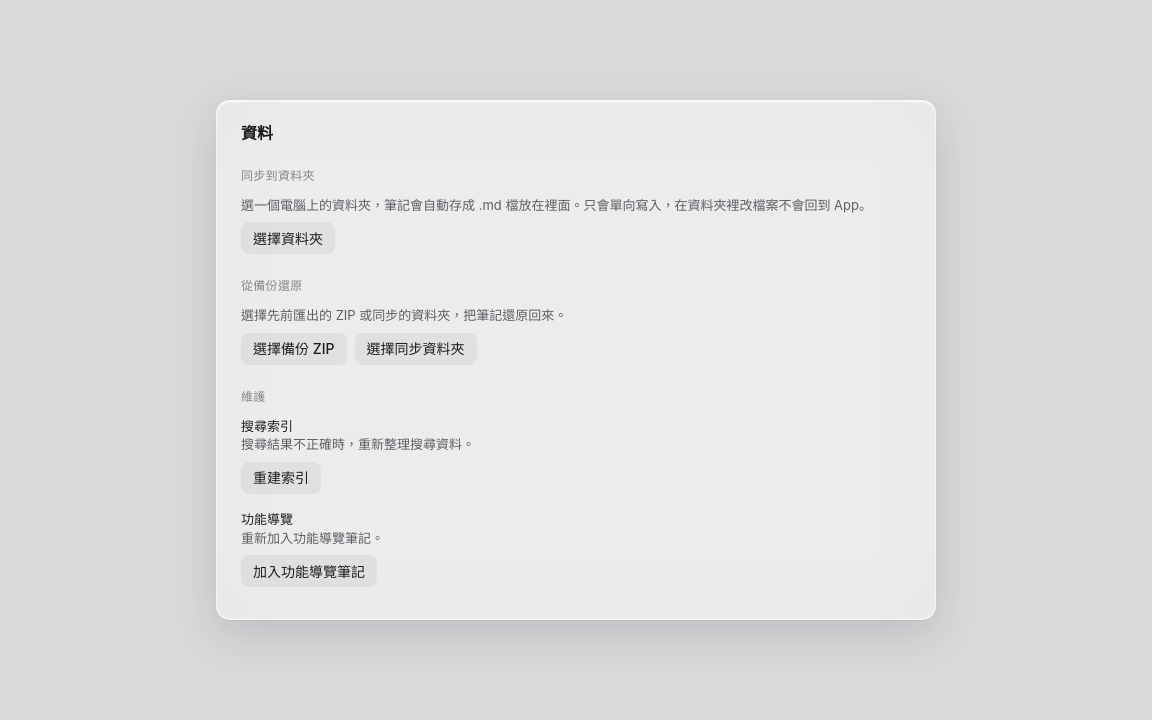
Scenario: SettingsDialog › data › skips unreadable notes and says how many were skipped (M9)
(page scrolled)
Click the button "重建索引". click: (281, 478)
box: [241, 462, 321, 494]
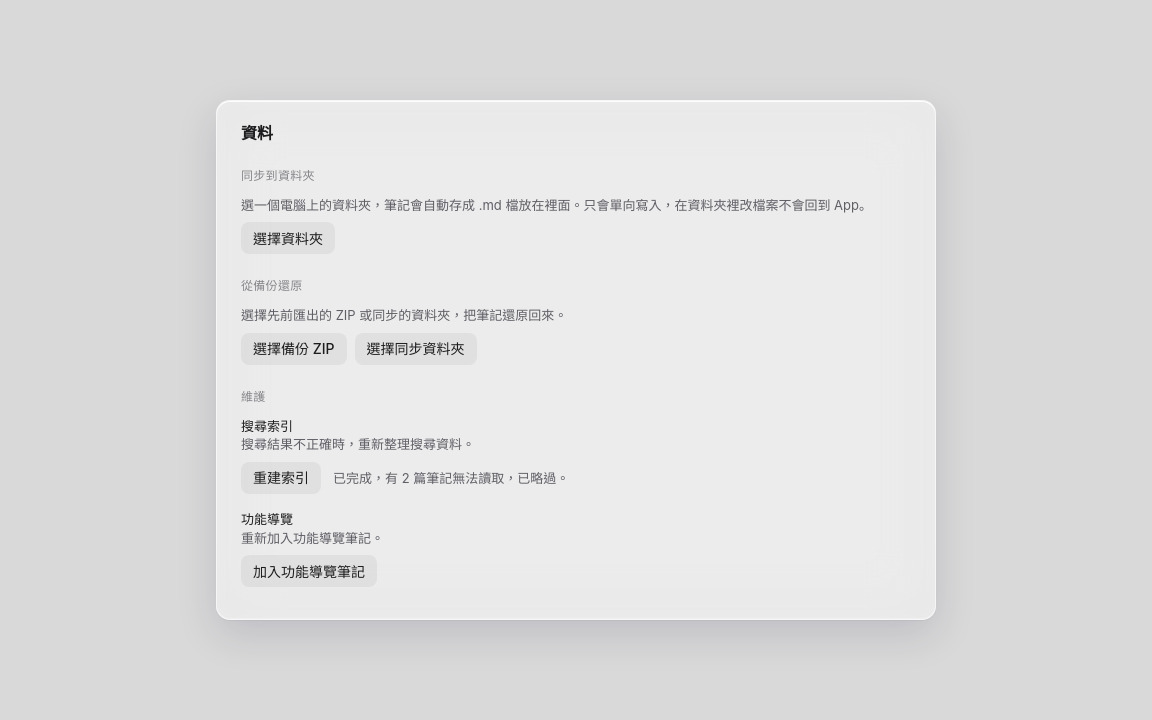
Result: the text "已完成，有 2 篇筆記無法讀取，已略過。" is shown at [333, 469, 569, 487]
